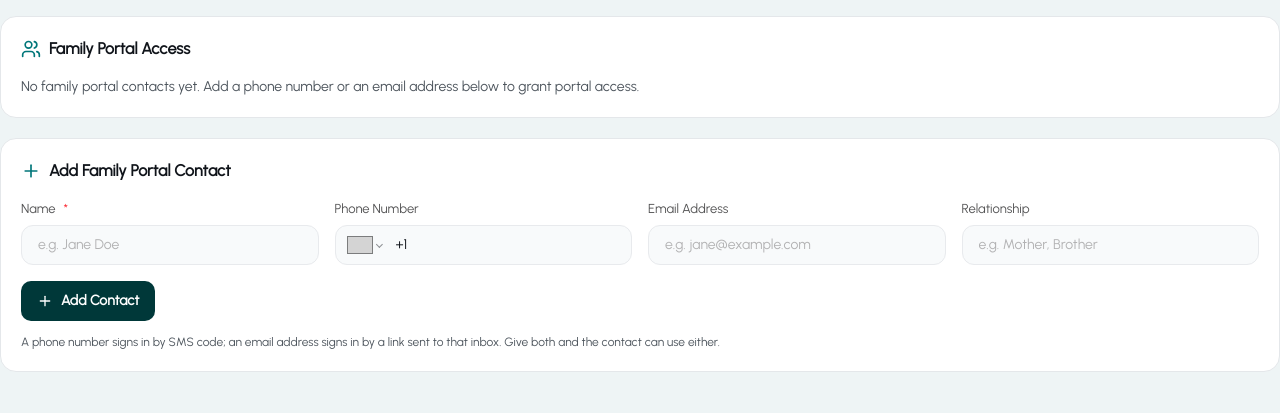
FamilyPortalTab › still requires a name
Type "mum@example.com" into the field with placeholder "e.g. jane@example.com" at {"x": 797, "y": 244}, box [648, 224, 946, 264]
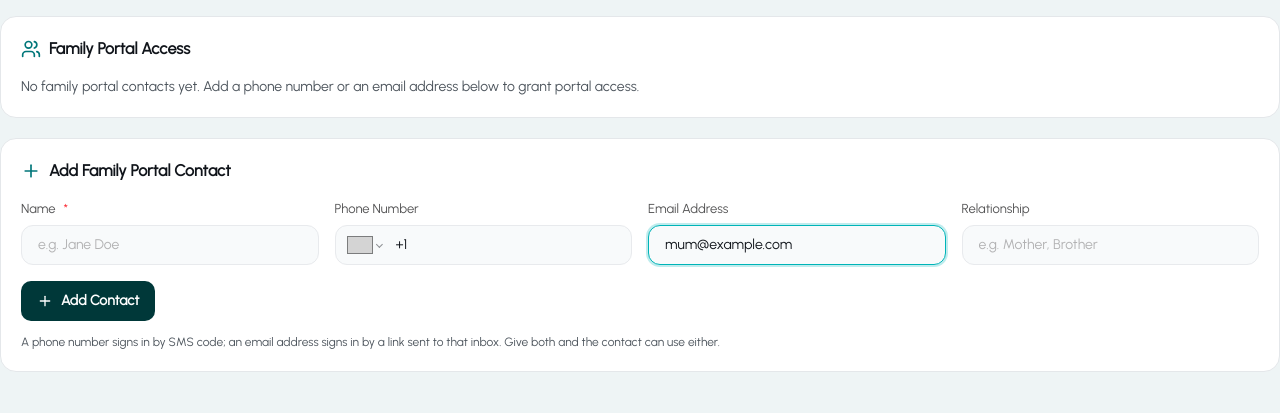
Click the button "Add Contact" at {"x": 88, "y": 300}, box [21, 280, 155, 320]
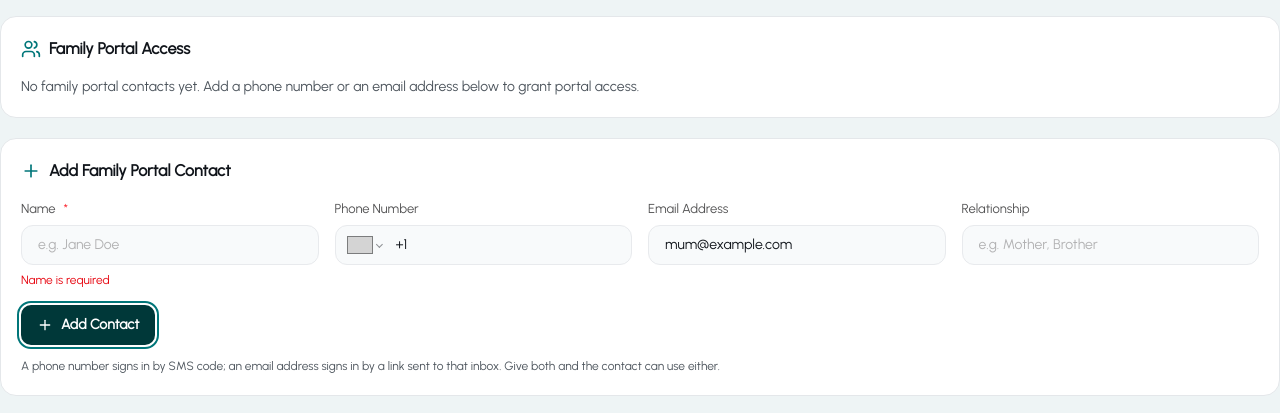
Expected: the text "Name is required" is shown, [21, 272, 110, 286]
